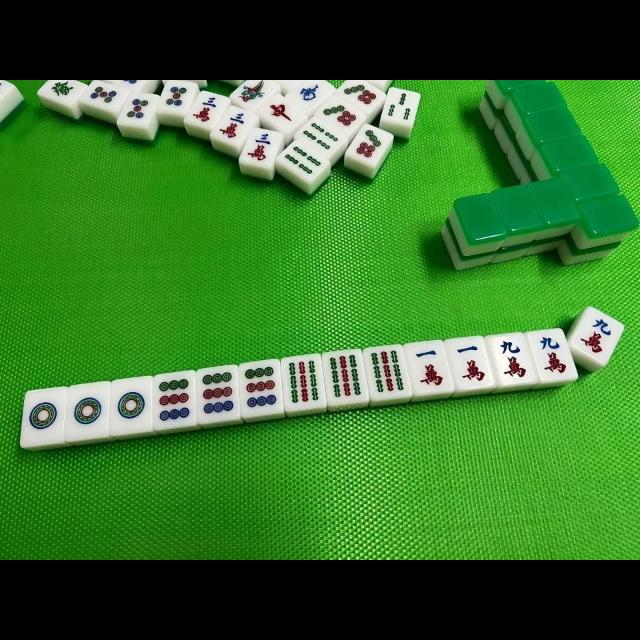b1: (231, 80, 275, 106)
b3: (383, 87, 417, 125)
b9: (364, 347, 408, 398), (283, 356, 325, 409), (326, 350, 366, 402)
c1: (404, 342, 452, 392), (446, 337, 490, 389)
c3: (240, 128, 278, 166), (215, 106, 249, 144), (190, 90, 222, 130)
c4: (281, 142, 325, 180), (298, 119, 342, 151)
c9: (530, 331, 576, 381), (576, 309, 620, 361), (491, 334, 534, 384)
d1: (65, 384, 109, 440), (22, 389, 64, 445), (112, 379, 152, 433)
d5: (82, 80, 125, 110), (120, 93, 154, 125), (160, 81, 192, 113)
d7: (349, 124, 391, 166), (318, 96, 362, 130), (339, 80, 381, 106)
d9: (154, 375, 196, 431), (242, 361, 282, 419), (197, 368, 239, 422)
dg: (38, 80, 84, 102)
dr: (260, 99, 302, 131)
ws: (290, 81, 332, 105)
